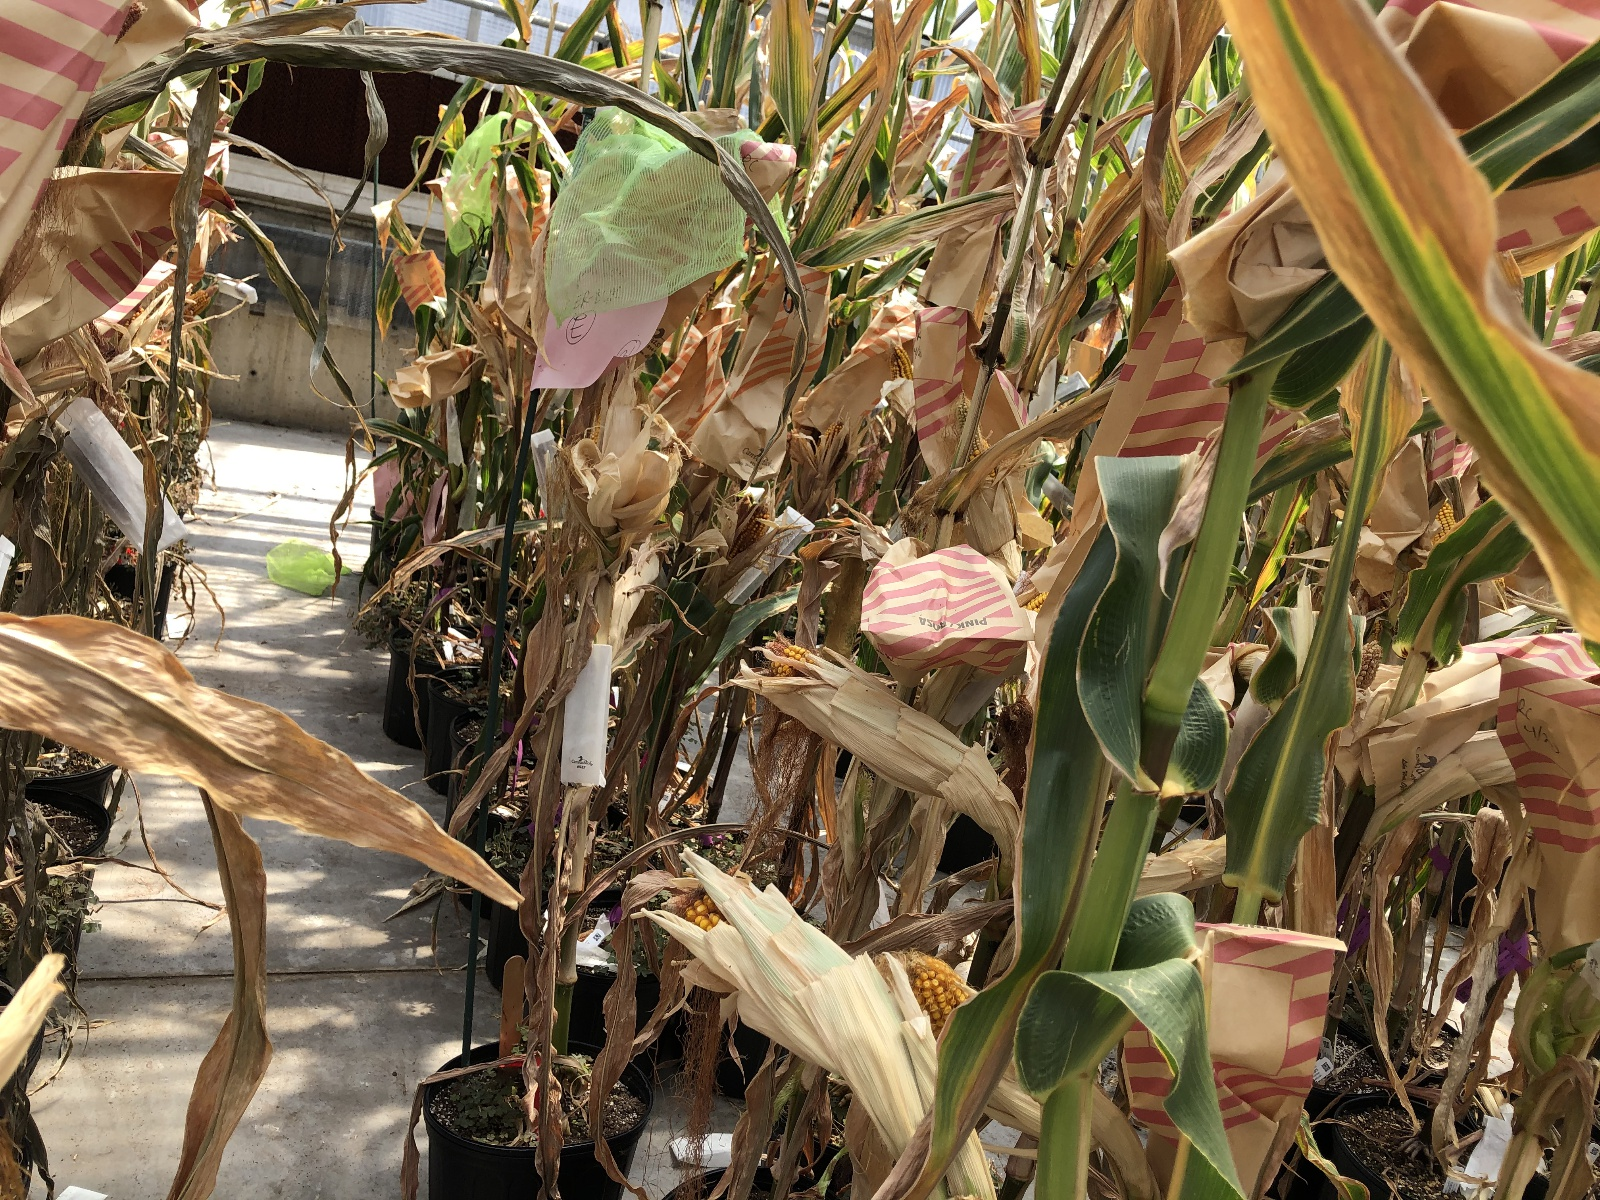ear: (645, 874, 884, 1095), (756, 632, 995, 778), (892, 938, 979, 1042), (959, 403, 1007, 546), (722, 492, 780, 563), (1409, 487, 1461, 551), (1009, 579, 1058, 629), (1352, 640, 1390, 689), (887, 335, 916, 384)
